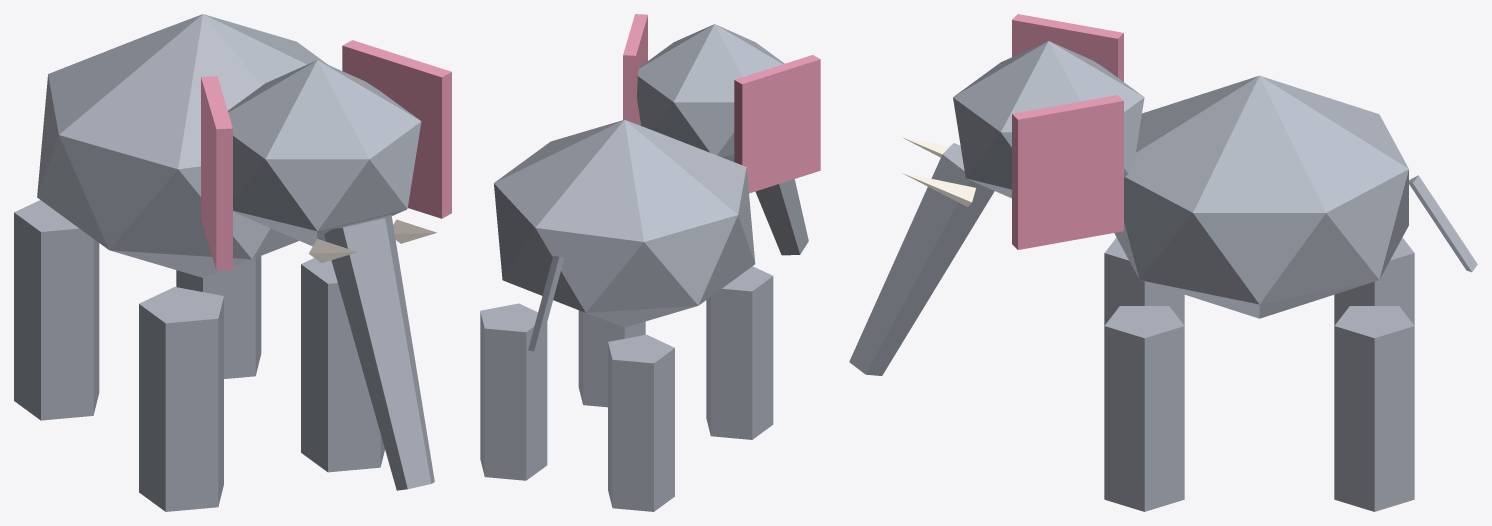
The model's file is animal_elephant.glb.
The picture shows the model from 3 angles, left to right: view 1: azimuth 30°, elevation 25°; view 2: azimuth 150°, elevation 25°; view 3: azimuth 270°, elevation 25°; orthographic projection. The views are drawn at different scales.
Visible parts, largest first — view 1: animal_elephant; view 2: animal_elephant; view 3: animal_elephant.
Part boxes in pixels (x1=…): animal_elephant: x1=14, y1=14, x2=451, y2=511; animal_elephant: x1=480, y1=14, x2=820, y2=511; animal_elephant: x1=849, y1=14, x2=1477, y2=511.
Size of the model in its own units: 0.16 by 0.24 by 0.3281.
